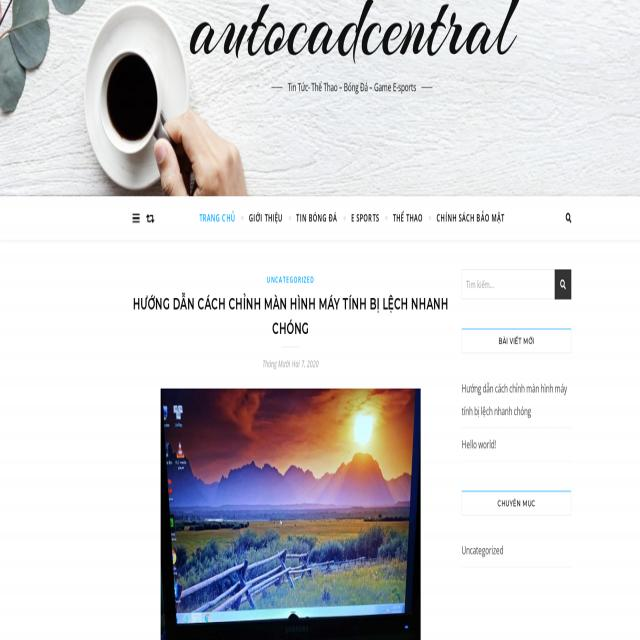button: (160, 389, 422, 640), (460, 378, 571, 425), (460, 427, 572, 463), (460, 533, 571, 567), (430, 197, 504, 240), (461, 490, 572, 517), (461, 328, 571, 354), (290, 197, 344, 240), (242, 197, 289, 240), (386, 197, 430, 240), (200, 197, 242, 240), (344, 197, 386, 240), (560, 202, 577, 235), (555, 270, 571, 300), (143, 206, 159, 233), (129, 203, 142, 234)
field: (462, 270, 554, 299)
